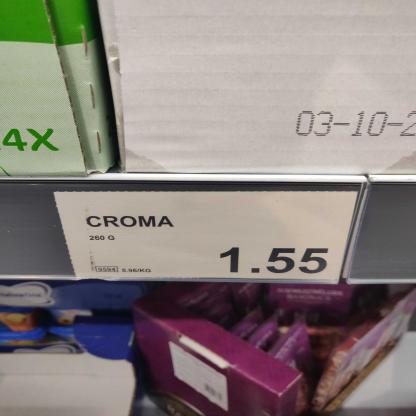prtg: (53, 192, 359, 280)
